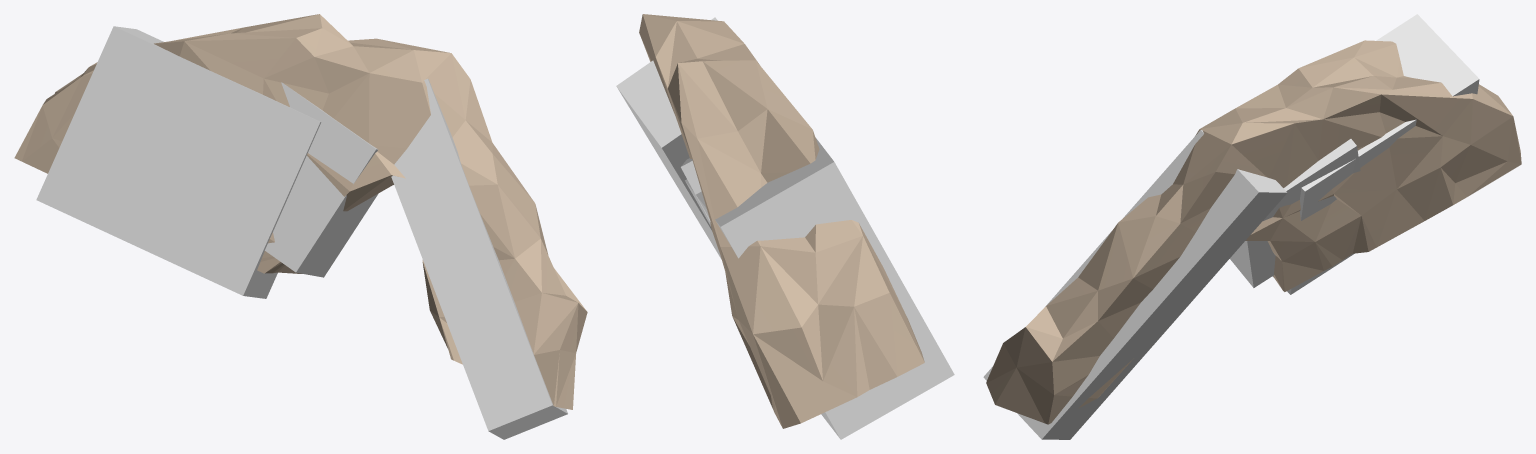
File: island2.fbx
The picture shows the model from 3 angles, left to right: view 1: azimuth 30°, elevation 25°; view 2: azimuth 150°, elevation 25°; view 3: azimuth 270°, elevation 25°; orthographic projection. The views are drawn at different scales.
Visible parts, largest first — view 1: 큐브, Terrain_Rock_Archway_02; view 2: Terrain_Rock_Archway_02, 큐브; view 3: Terrain_Rock_Archway_02, 큐브.
Boxes of the visible parts, x1,y1,x2,y2 form: 큐브: [36, 26, 567, 439]; Terrain_Rock_Archway_02: [14, 14, 587, 409]; Terrain_Rock_Archway_02: [639, 14, 924, 428]; 큐브: [616, 17, 954, 439]; Terrain_Rock_Archway_02: [986, 40, 1521, 424]; 큐브: [983, 14, 1479, 439].
Bounding box in the file's own units: 323 × 282 × 418.
